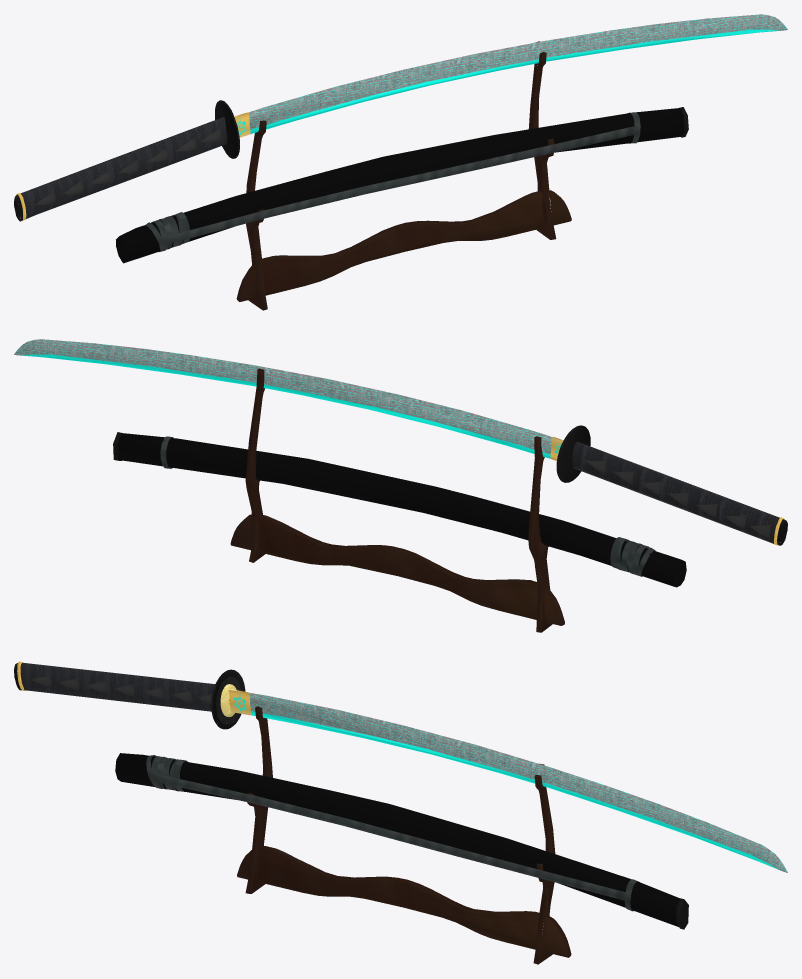
Rendered from katana.glb.
3 renders of one model, top to bottom at view 1: azimuth 30°, elevation 25°; view 2: azimuth 150°, elevation 25°; view 3: azimuth 330°, elevation 25°, orthographic.
Parts seen in each view (by area): view 1: Object_4; view 2: Object_4; view 3: Object_4.
Boxes of the visible parts, x1,y1,x2,y2 form: Object_4: [14, 14, 787, 310]; Object_4: [14, 339, 787, 632]; Object_4: [14, 661, 787, 964].
Size of the model in its own units: 5.93 by 1.53 by 0.3744.
1 material, 1 textured.
